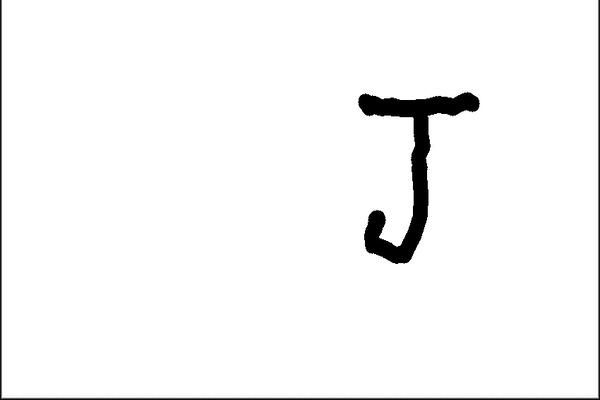J: (348, 84, 480, 268)
